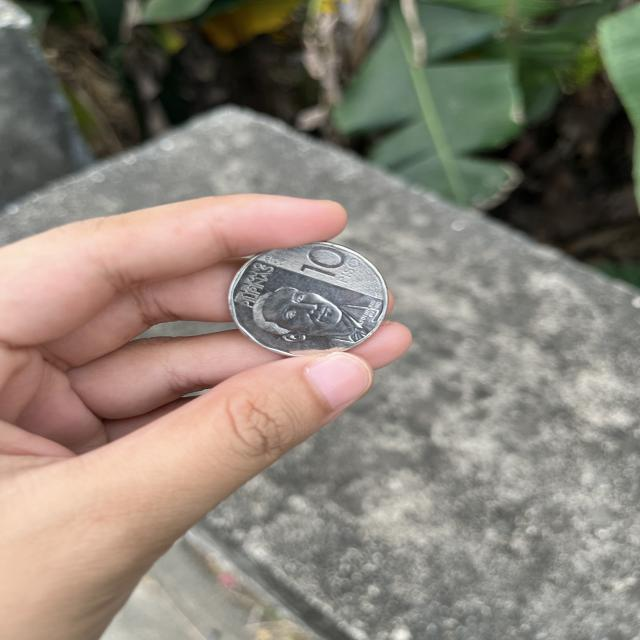10_New_Front: (295, 243, 359, 284)
